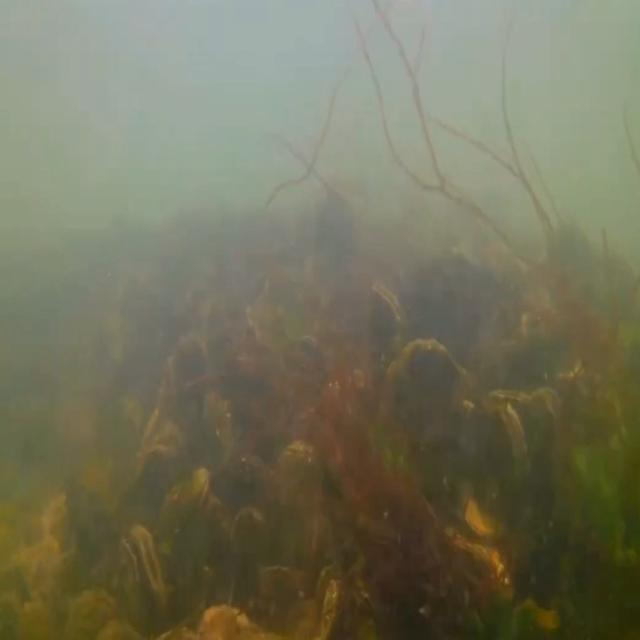Oyster-Closed: (369, 279, 410, 380), (161, 466, 211, 529)
Oyster-Indeterminate: (370, 338, 473, 443), (487, 383, 564, 477), (459, 396, 530, 497), (224, 502, 282, 622), (169, 332, 210, 457), (272, 437, 321, 533), (448, 530, 516, 593), (142, 358, 178, 467), (200, 385, 238, 476), (64, 584, 119, 640), (134, 423, 186, 472), (464, 492, 510, 540)
Oyster-Open: (108, 519, 172, 640), (312, 564, 347, 640)
